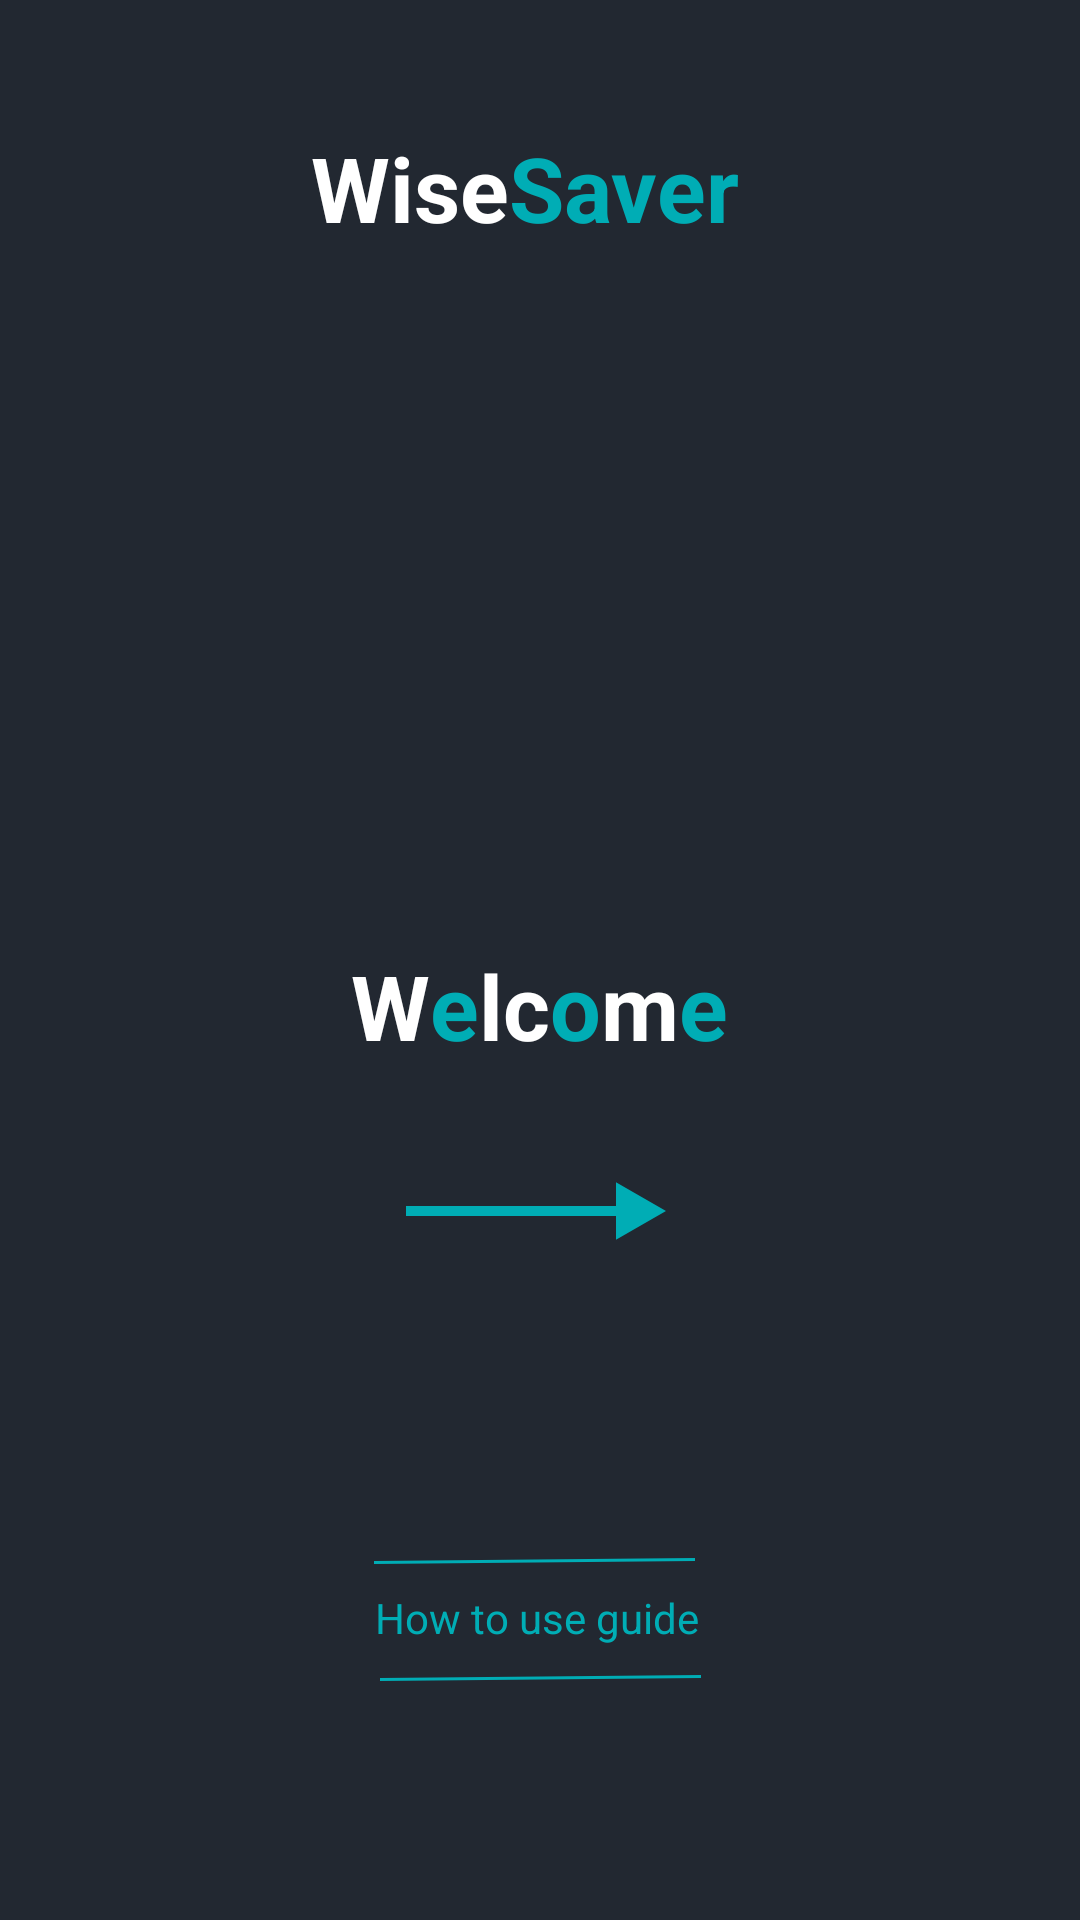

Screen size 1080w x 1920h. Icon name, then its center in pixels as [x,y]:
arrow: [536,1211]
